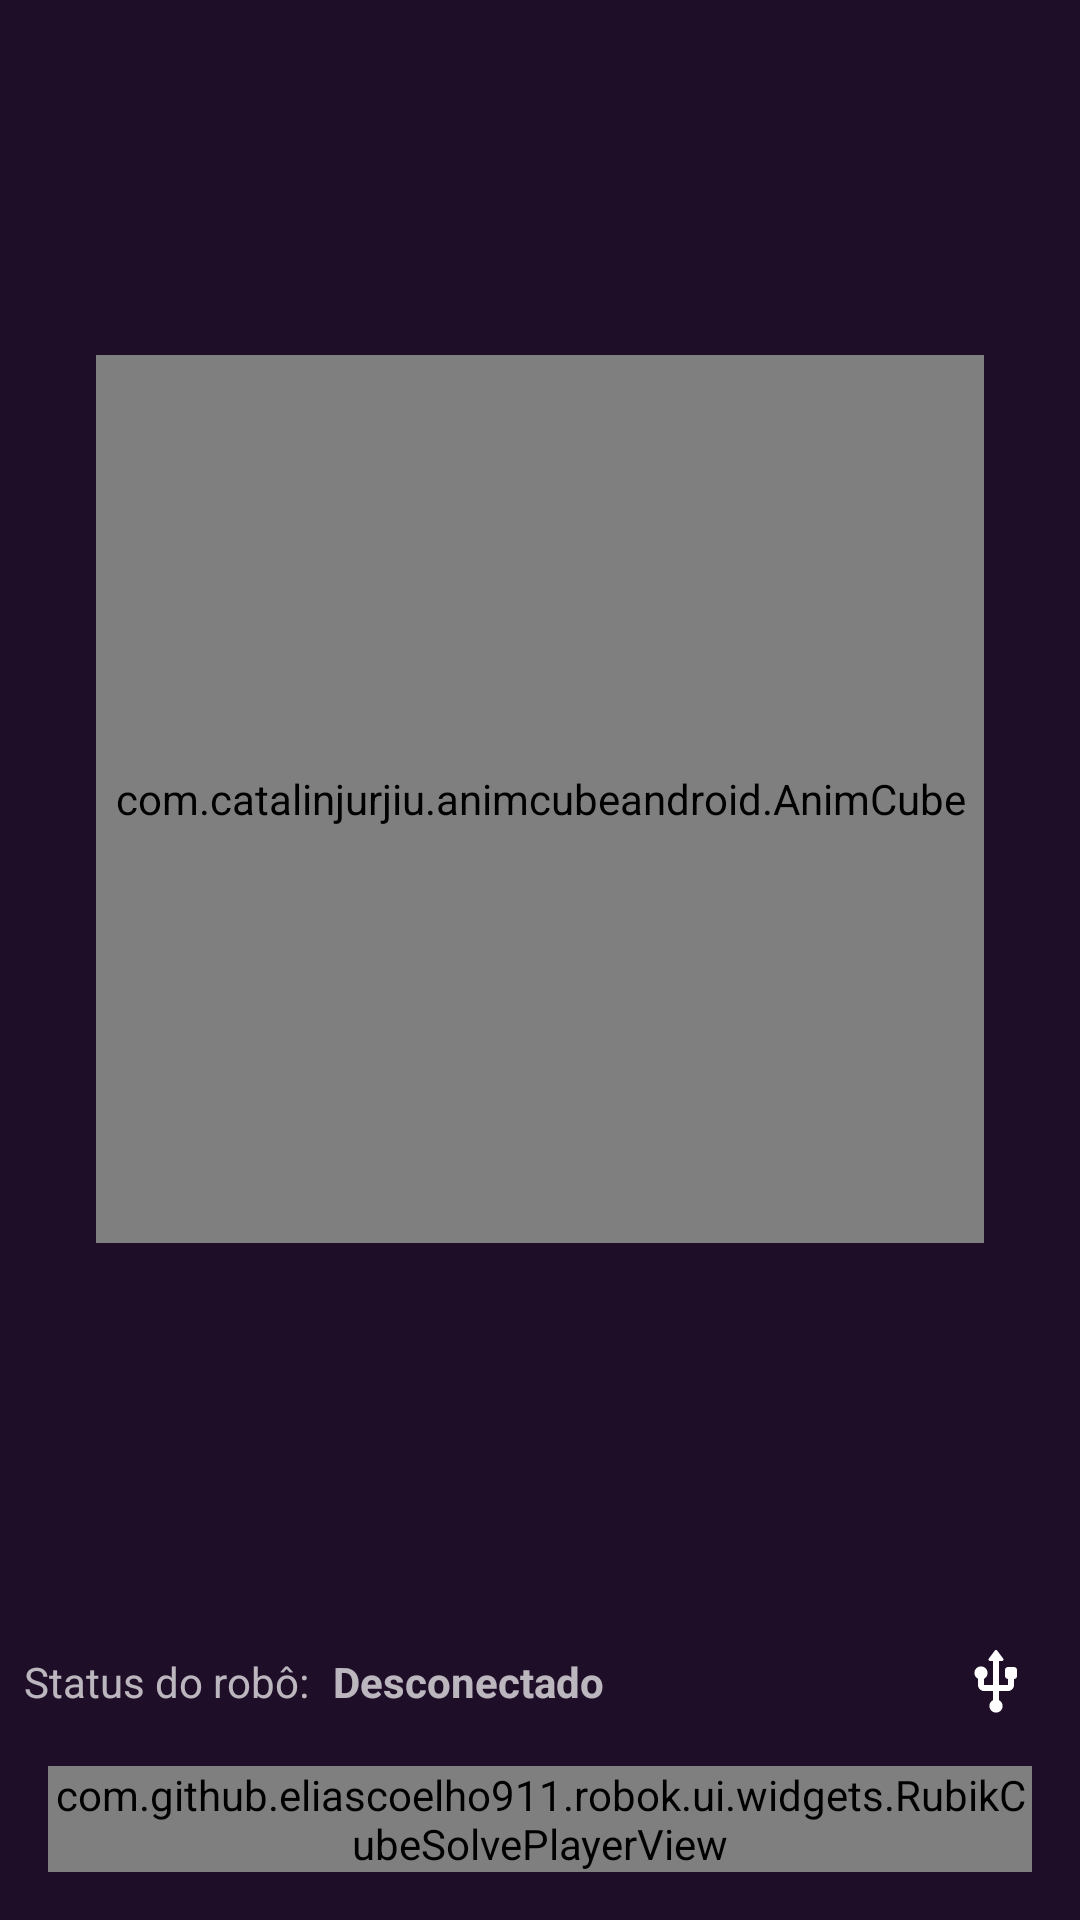

Named icons in this screenshot (1080px x 1920px) and their centers, point (x, y):
Conectar ao robô: point (995, 1681)
